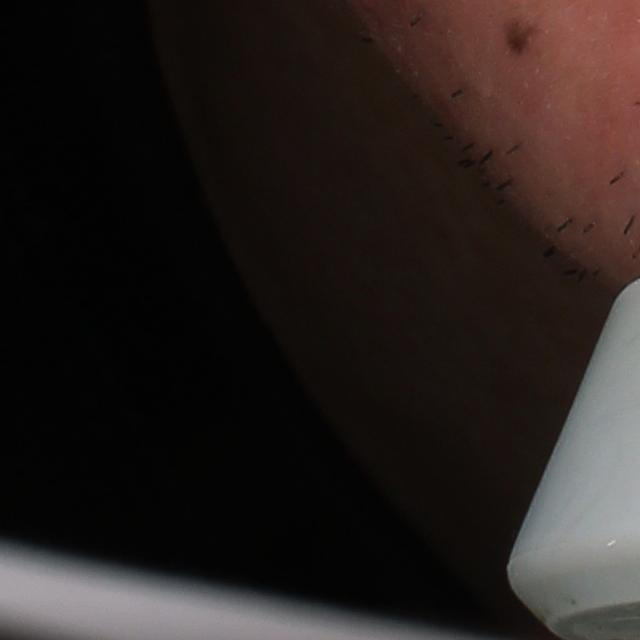nevus: (497, 9, 546, 64)
